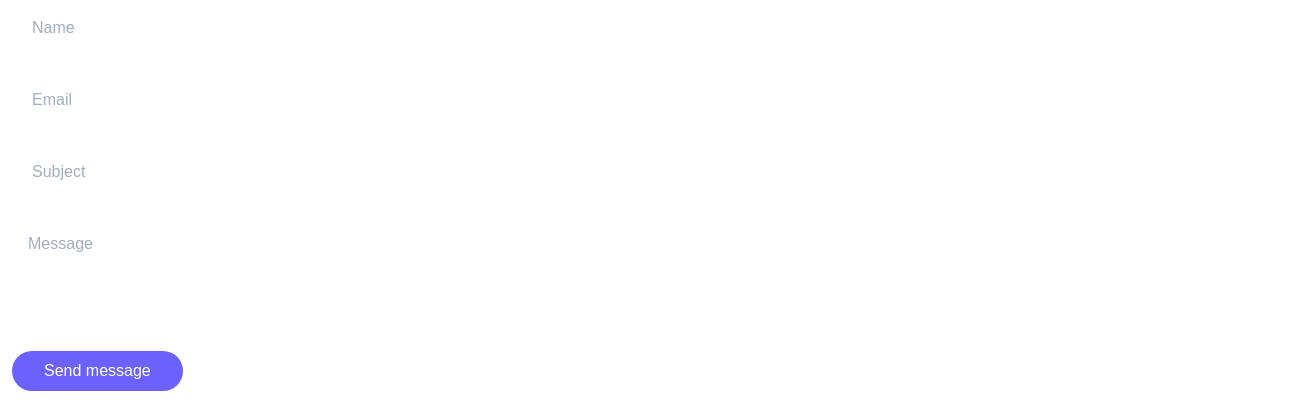
Test: ContactForm Component › should not submit with invalid email
This screenshot has width=1304, height=408.
Type "Test Guy" into the field with placeholder "Name" at (652, 28), box [12, 8, 1292, 48]
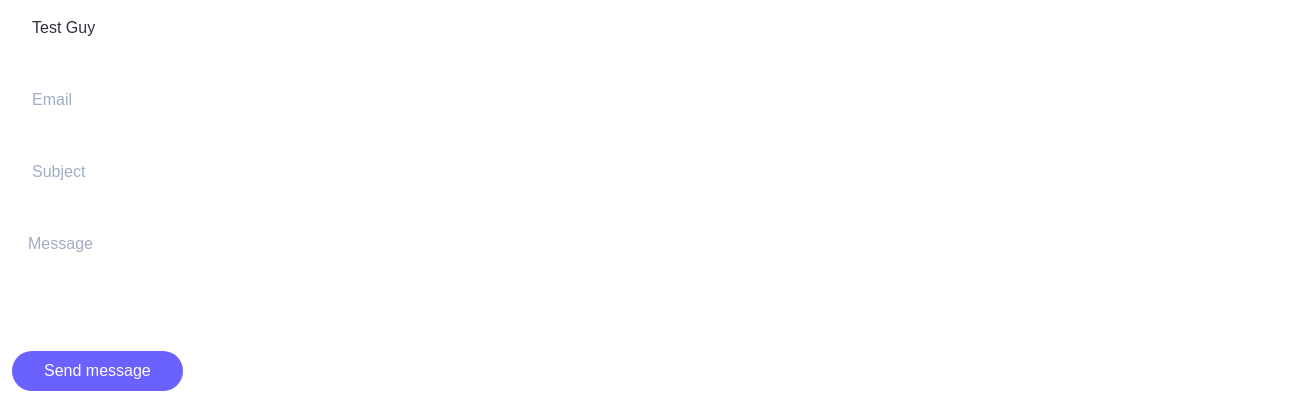
Type "test_guy@email.test" into the field with placeholder "Email" at (652, 100), box [12, 80, 1292, 120]
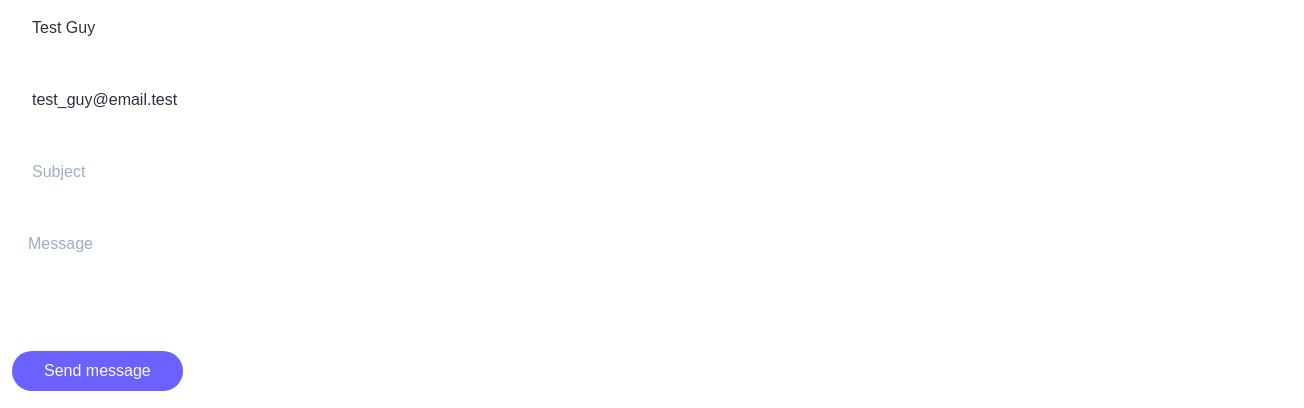
Type "Test subject" into the field with placeholder "Subject" at (652, 172), box [12, 152, 1292, 192]
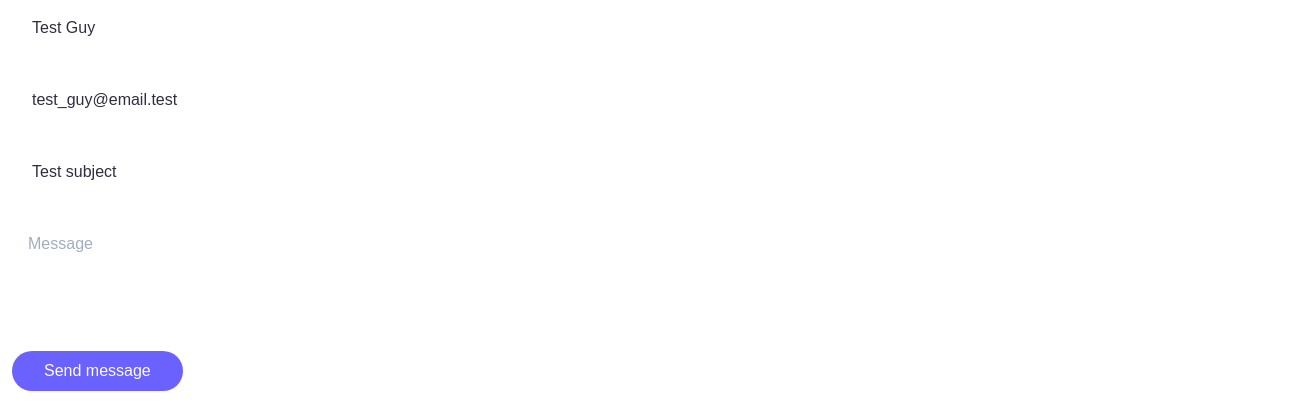
Type "This is a test message" into the text box with placeholder "Message" at (652, 268), box [12, 224, 1292, 312]
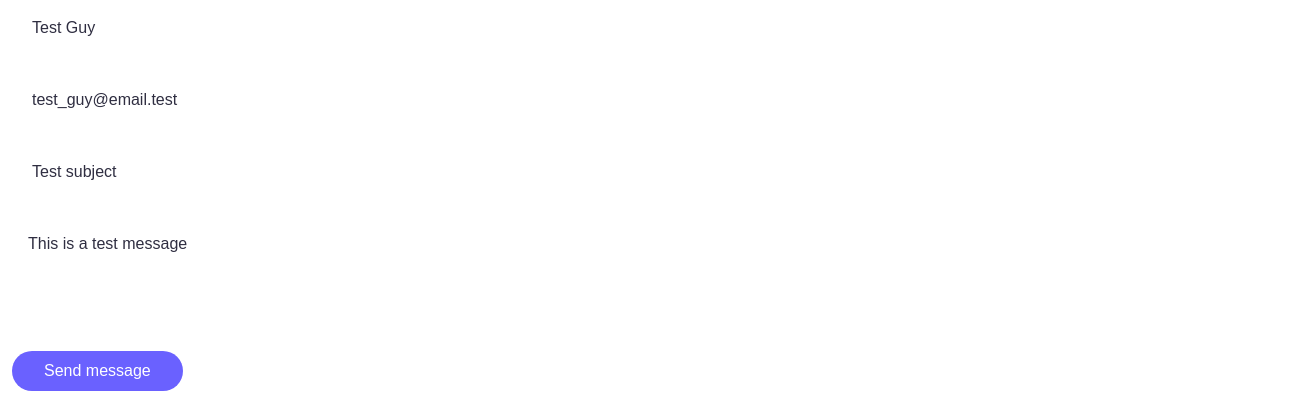
Type "test@" into the field with placeholder "Email" at (652, 100), box [12, 80, 1292, 120]
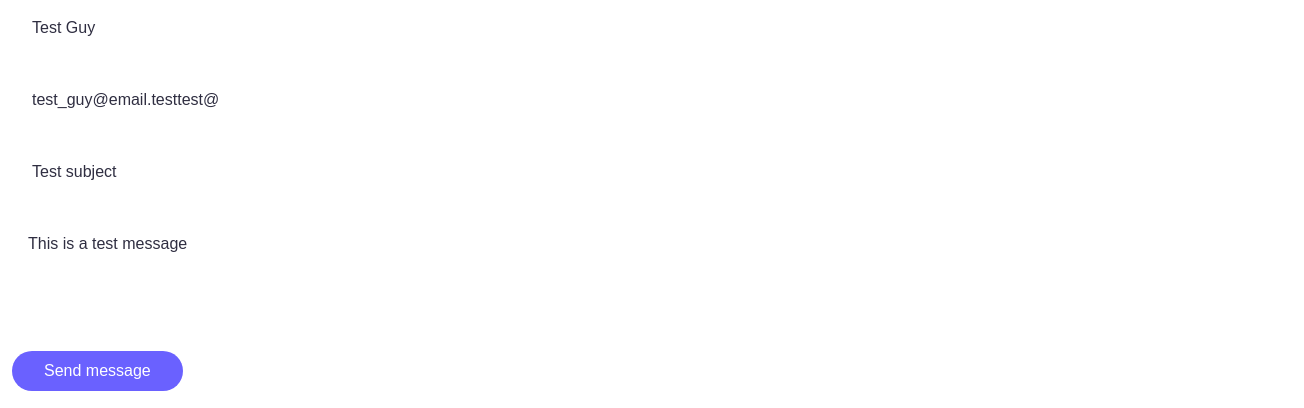
Click the button "Send message" at (97, 371), box [12, 351, 183, 391]
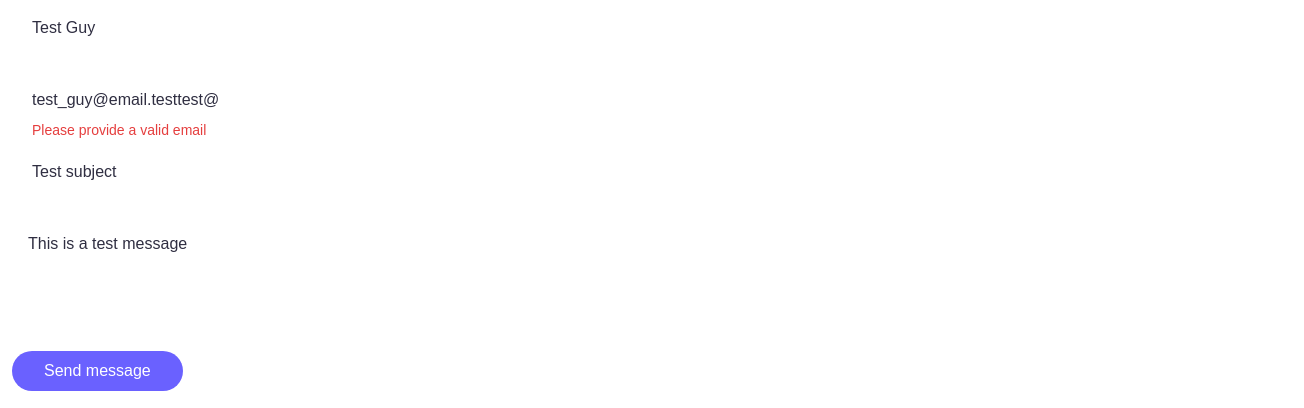
Check: the text "Please provide a valid email" is shown, box [32, 122, 206, 138]
